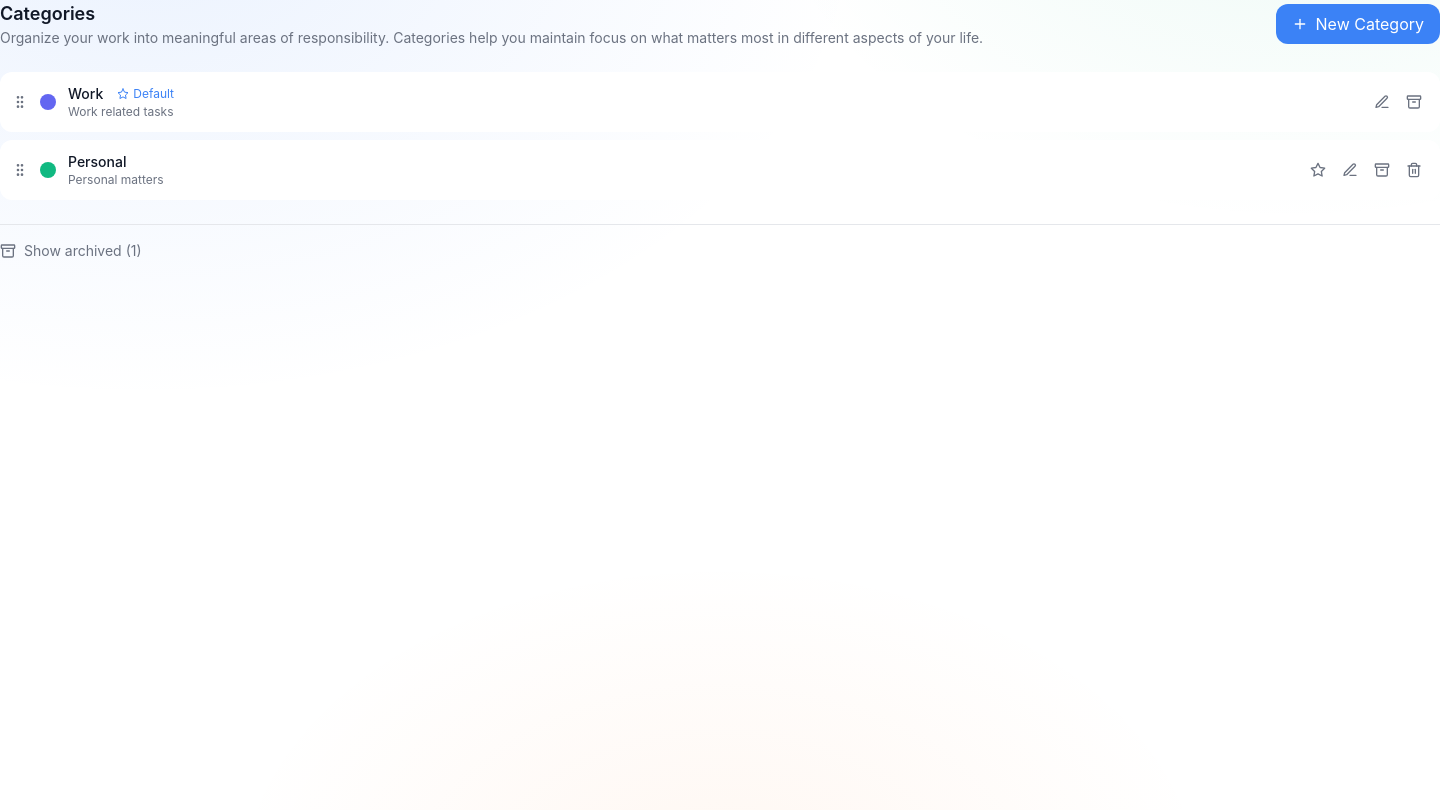
Test: LifeAreasManager › Delete Life Area › opens delete confirmation modal when delete button is clicked
The width and height of the screenshot is (1440, 810).
Step 1. Click the button titled "Delete" → (1414, 170), box [1400,156,1428,184]
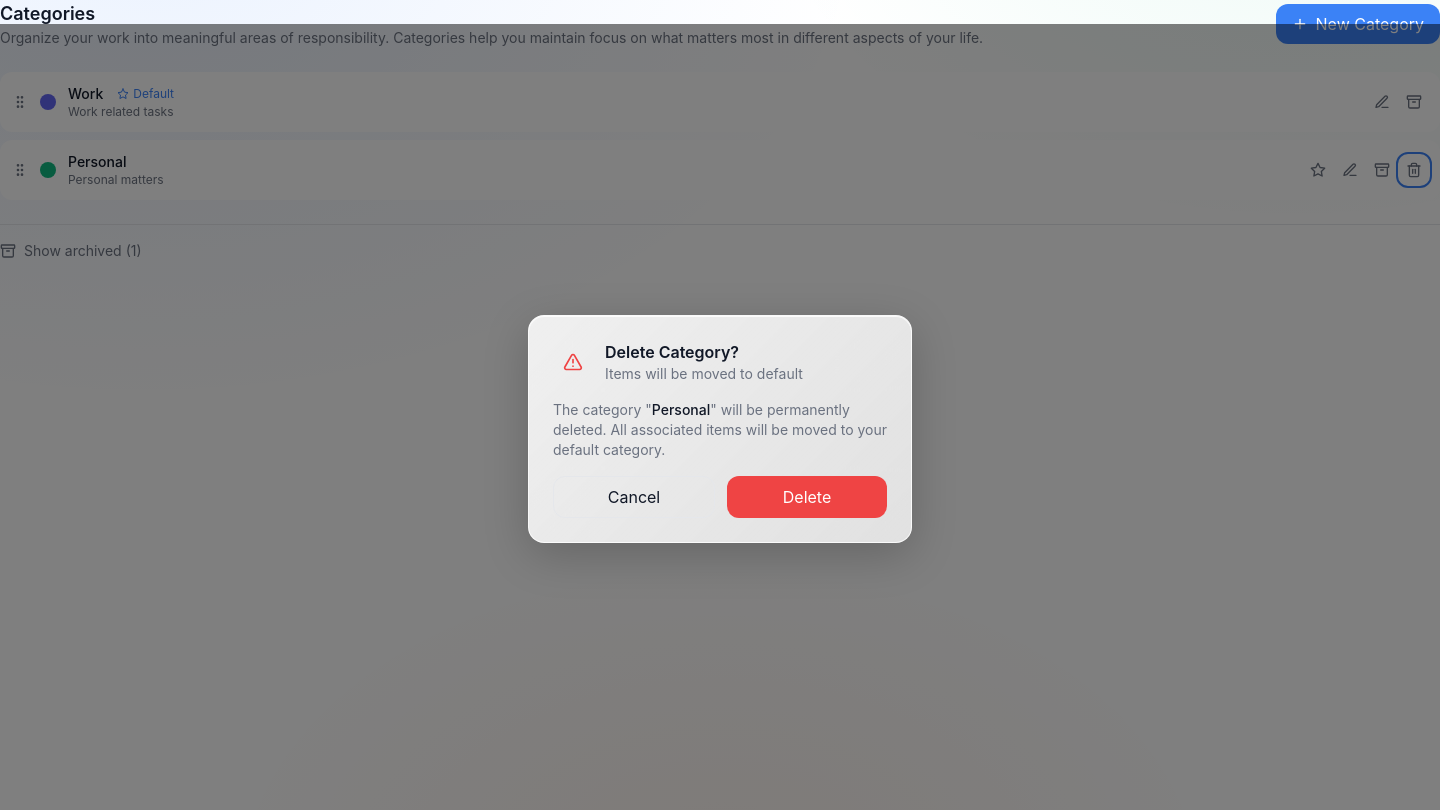
Result: the heading "Delete Category?" is shown at [605,342,739,362]
